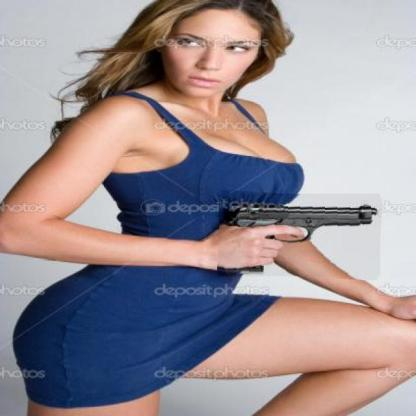handgun: (218, 192, 382, 278)
